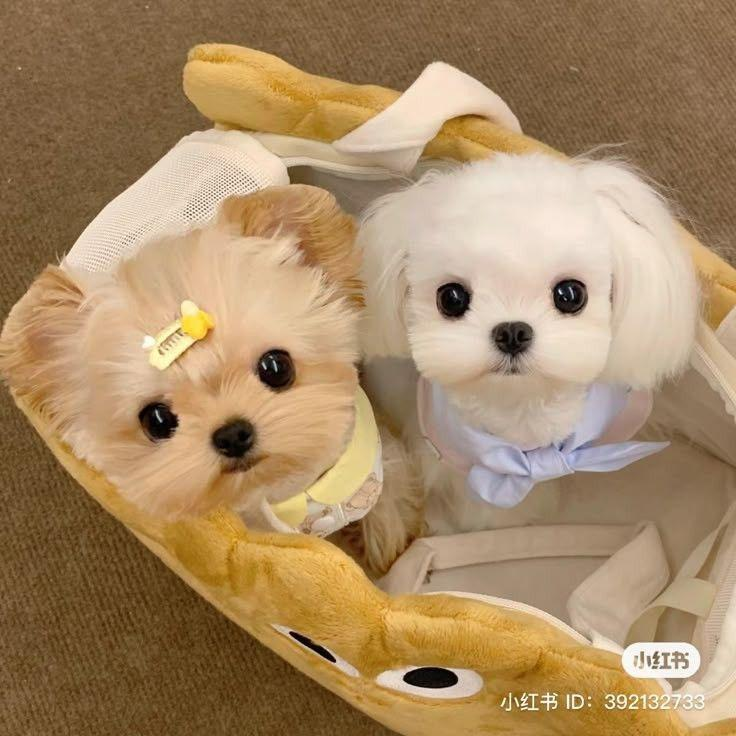puppy-dog: (2, 182, 427, 576), (353, 144, 711, 534)
